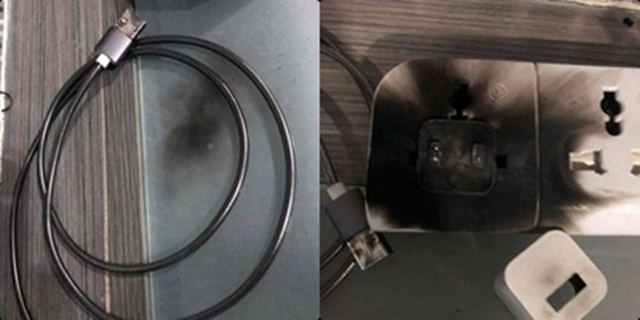Three_eye_plug: (355, 49, 640, 251)
